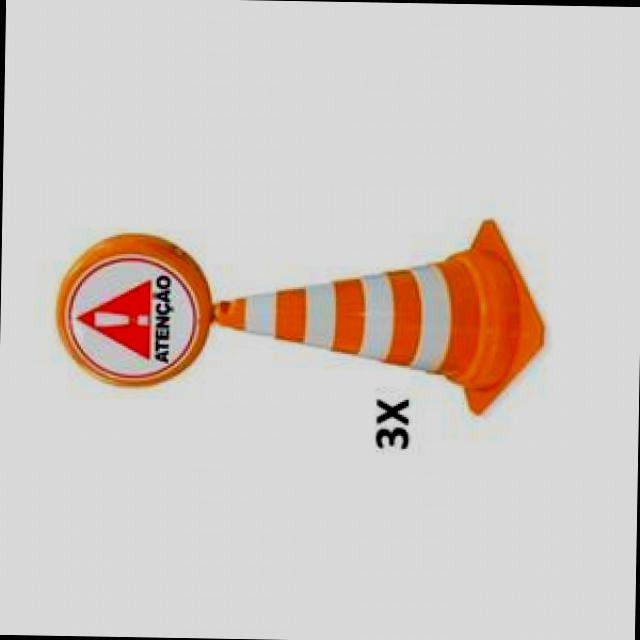cone: (212, 208, 534, 388)
